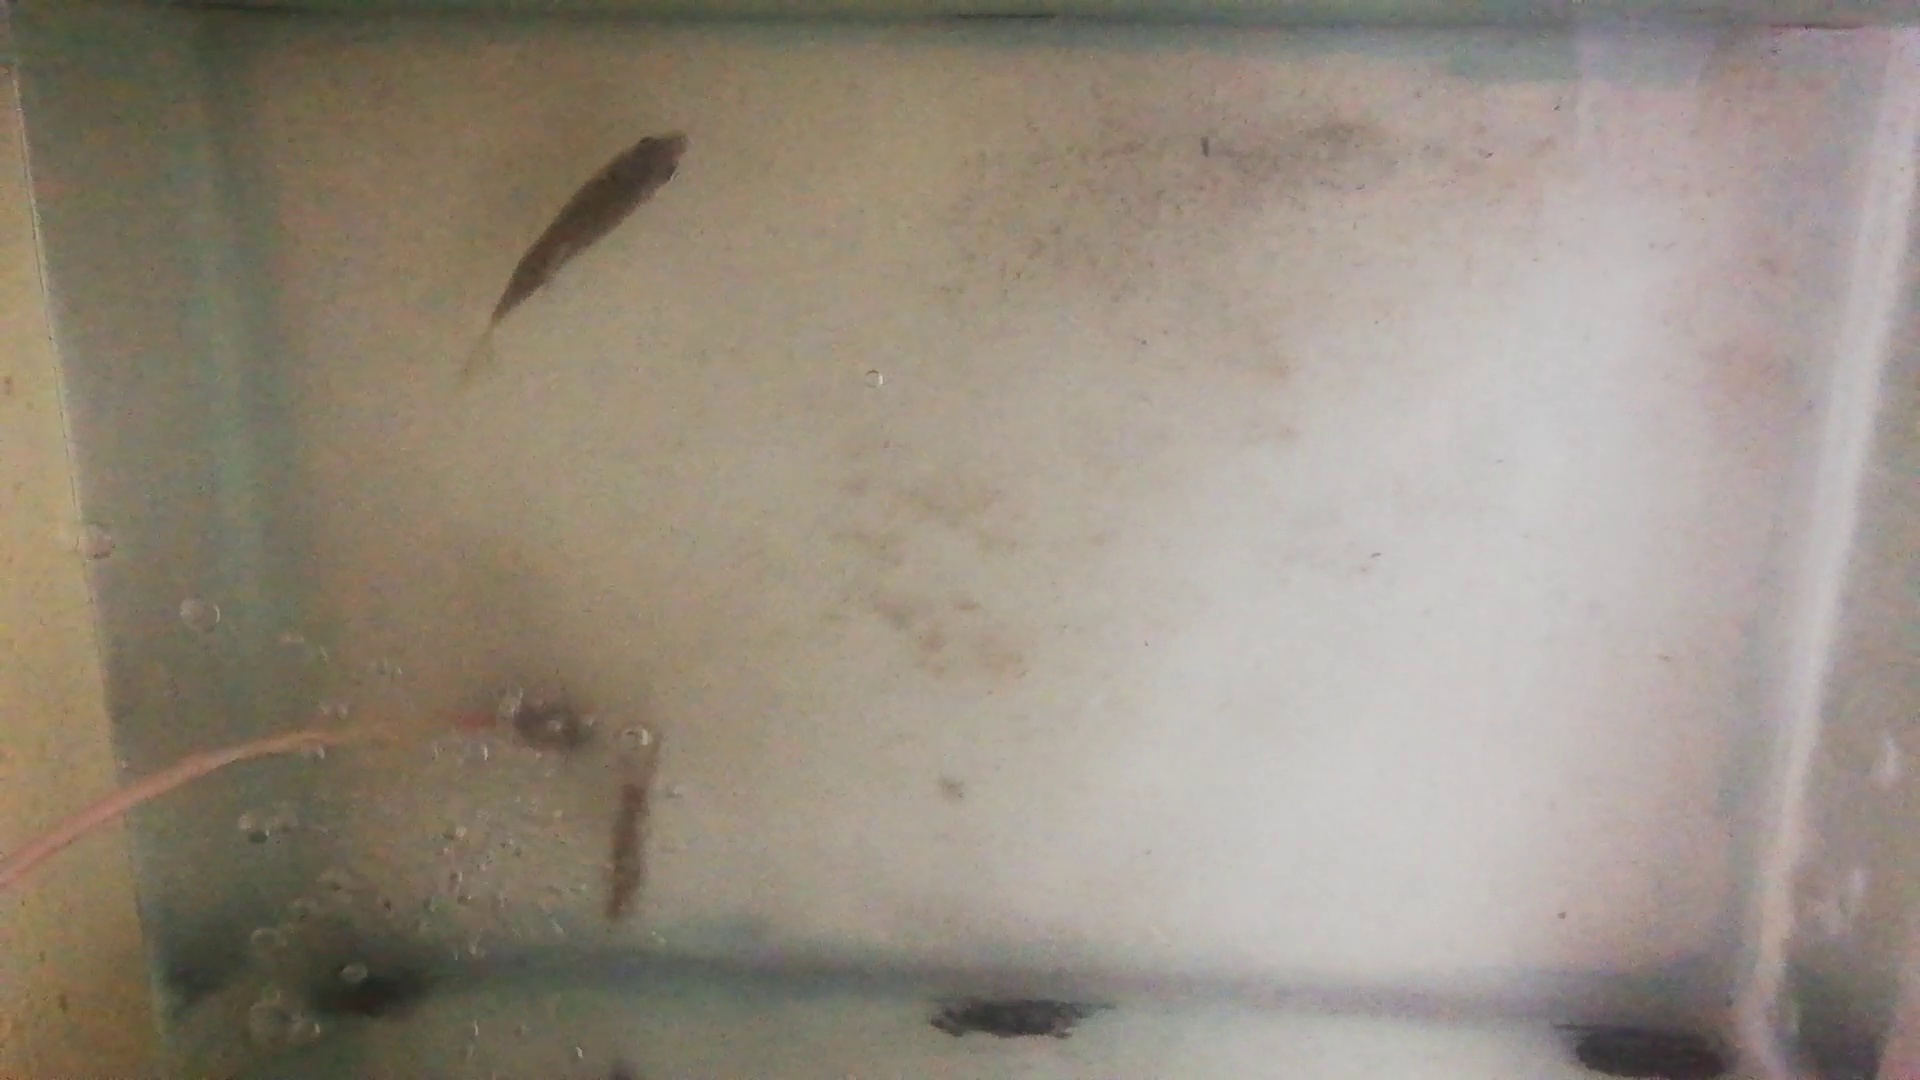fish: (491, 133, 686, 324), (608, 735, 655, 927)
